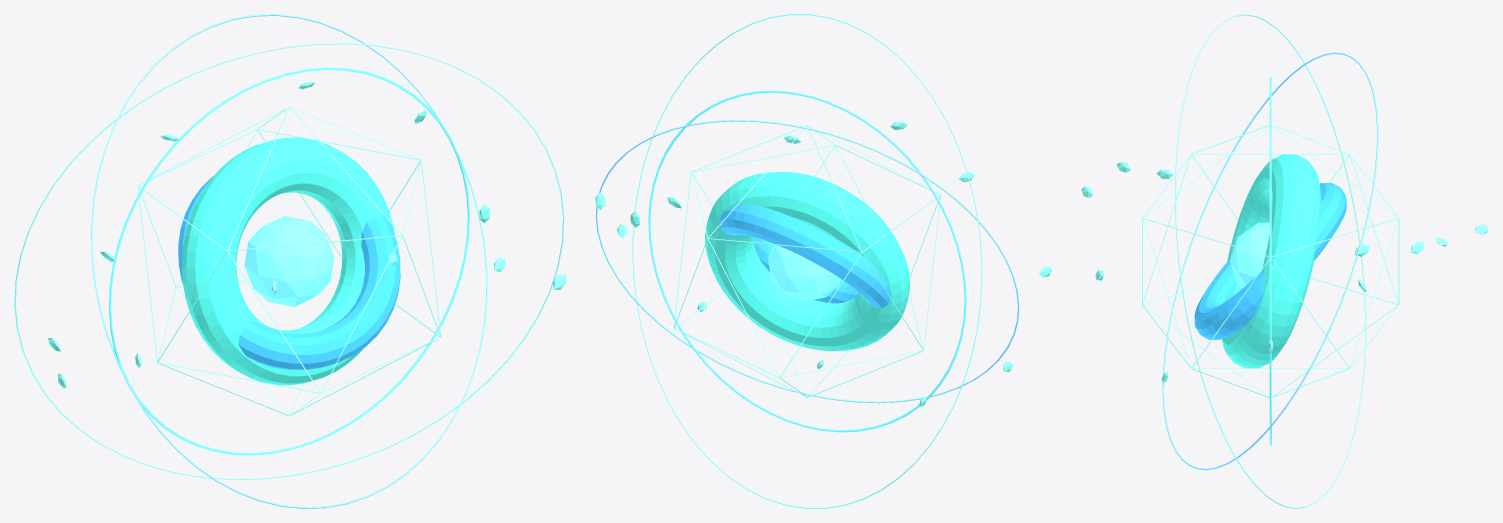
File: hero-core.glb
3 views of the same model, side by side, from view 1: azimuth 30°, elevation 25°; view 2: azimuth 150°, elevation 25°; view 3: azimuth 270°, elevation 25° (orthographic). The views are drawn at different scales.
Visible parts, largest first — view 1: CoreRingA, CoreRingB, CoreGem, WireShell, Orbit0, Orbit1, Orbit2; view 2: CoreRingA, CoreRingB, WireShell, Orbit0, CoreGem, Orbit2, Orbit1; view 3: CoreRingA, CoreRingB, WireShell, Orbit1, Orbit2, CoreGem, Orbit0.
Part boxes in pixels (x1,y1,x2,y2): CoreRingA: (182,137,394,385); CoreRingB: (178,175,400,369); CoreGem: (244,216,334,306); WireShell: (137,106,441,416); Orbit0: (108,67,469,455); Orbit1: (91,14,487,508); Orbit2: (14,43,564,479); CoreRingA: (705,172,909,350); CoreRingB: (719,205,890,308); WireShell: (673,125,941,397); Orbit0: (648,90,966,432); CoreGem: (768,243,841,301); Orbit2: (632,14,982,508); Orbit1: (595,119,1019,403); CoreRingA: (1222,154,1321,368); CoreRingB: (1194,183,1346,339); WireShell: (1142,125,1399,397); Orbit1: (1162,52,1378,470); Orbit2: (1175,14,1366,508); CoreGem: (1230,222,1269,288); Orbit0: (1269,77,1271,445).
Bounding box in the file's own units: 5.86 × 5.91 × 5.
